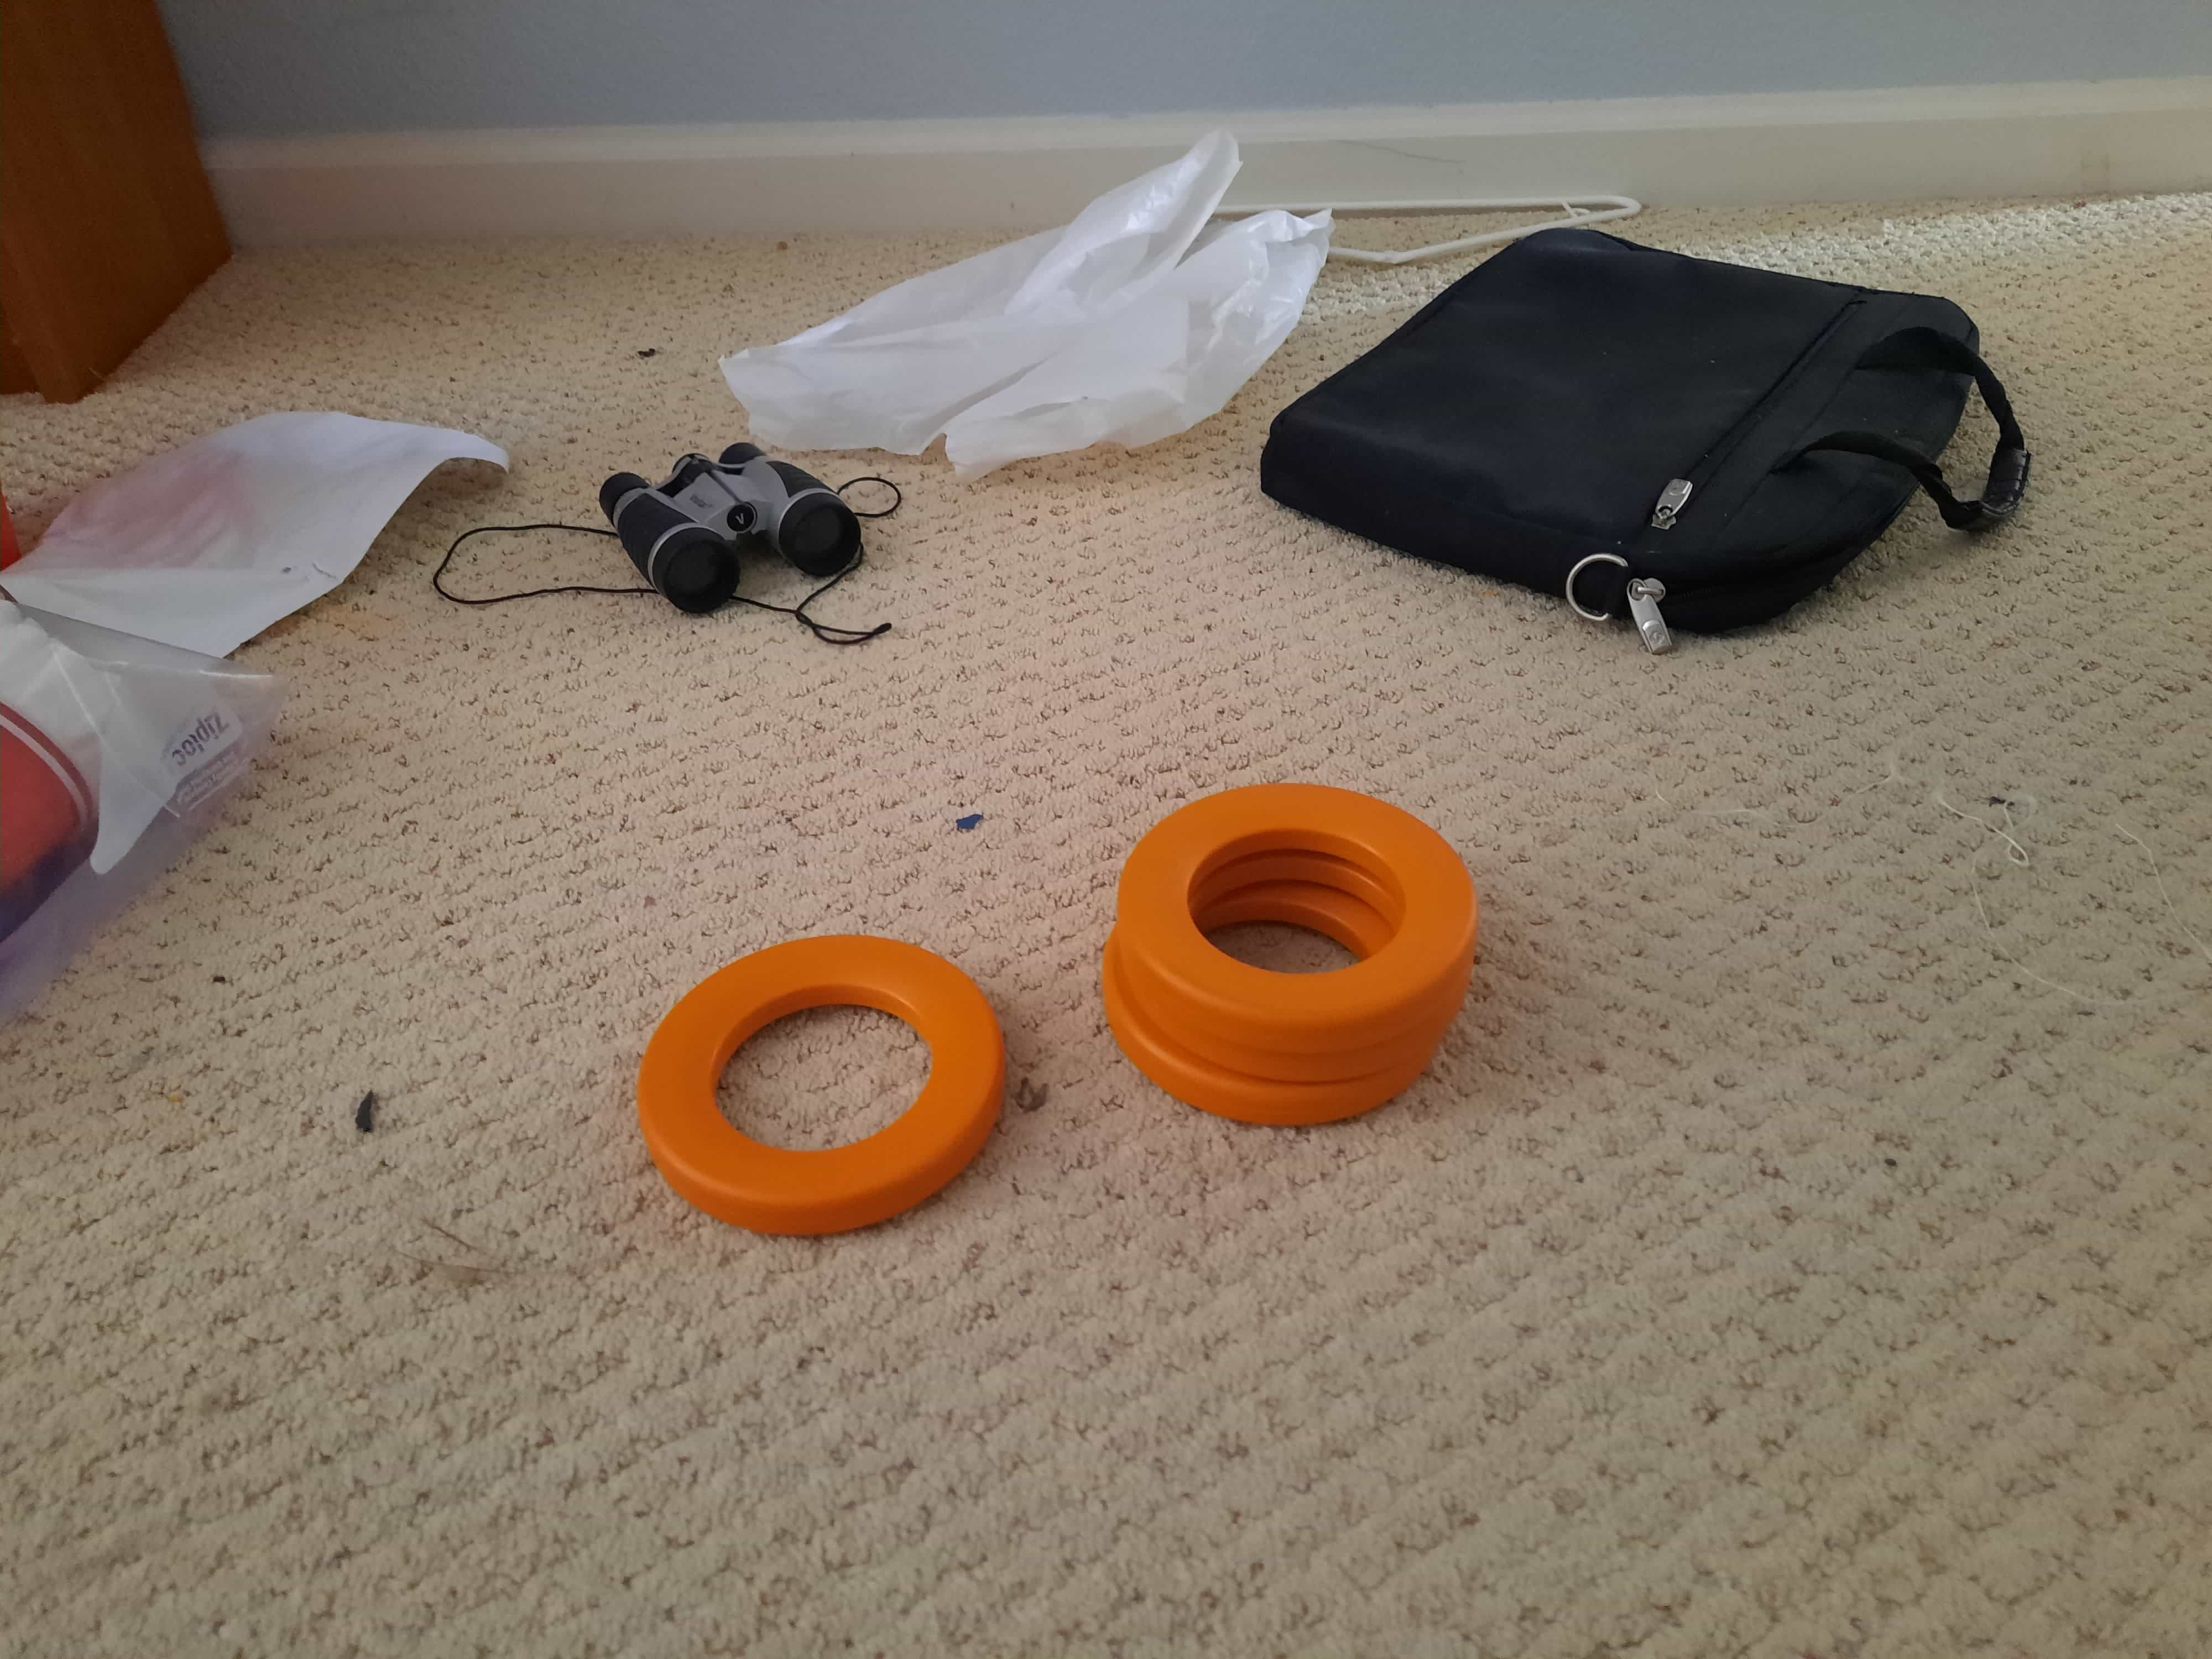FourStack: (1109, 784, 1480, 1112)
OneStack: (636, 932, 1003, 1216)
